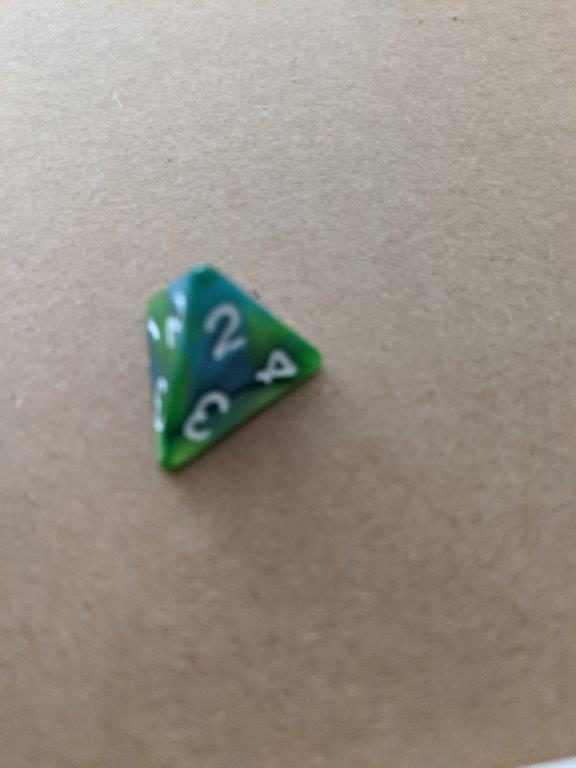d4-2: (136, 258, 324, 476)
